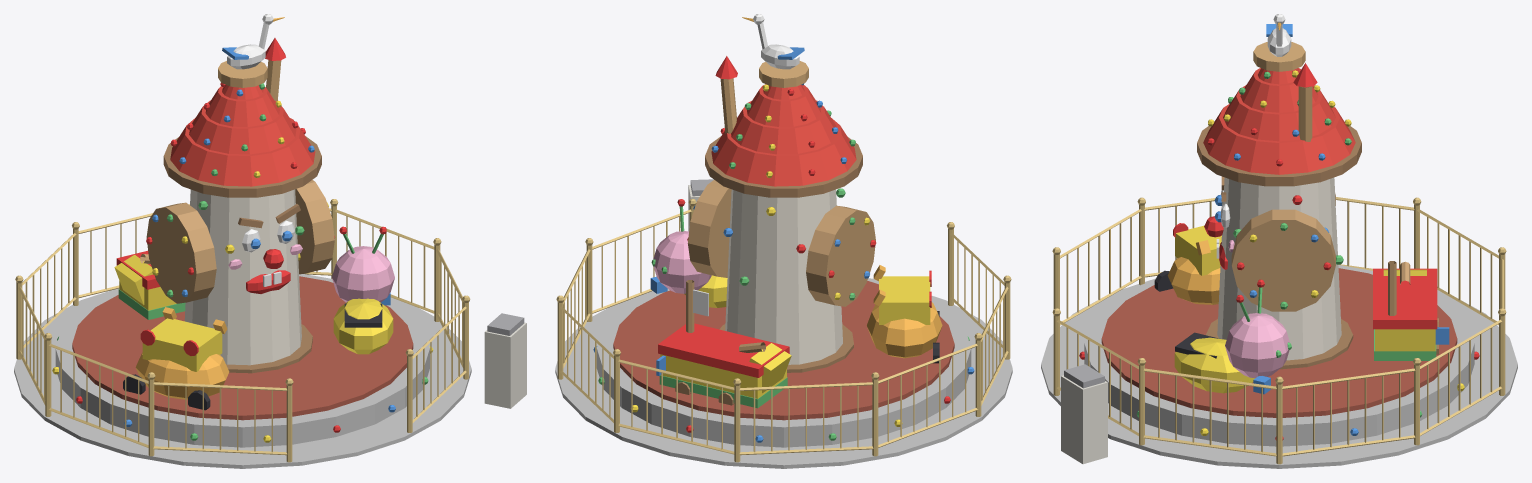
3 views of the same model, side by side, from view 1: azimuth 30°, elevation 25°; view 2: azimuth 150°, elevation 25°; view 3: azimuth 270°, elevation 25° (orthographic). The views are drawn at different scales.
Visible parts, largest first — view 1: base, rotor, lift1, lift2, lift0; view 2: base, rotor, lift0, lift1, lift2; view 3: base, rotor, lift2, lift0, lift1.
Boxes of the visible parts, x1,y1,x2,y2 form: base: [14, 14, 526, 468]; rotor: [72, 276, 413, 420]; lift1: [123, 307, 229, 410]; lift2: [332, 226, 394, 354]; lift0: [114, 250, 185, 319]; base: [555, 14, 1012, 468]; rotor: [613, 281, 954, 420]; lift0: [656, 280, 791, 408]; lift1: [866, 265, 942, 363]; lift2: [650, 199, 727, 307]; base: [1041, 14, 1517, 468]; rotor: [1101, 268, 1457, 417]; lift2: [1174, 279, 1291, 394]; lift0: [1373, 261, 1449, 360]; lift1: [1154, 223, 1221, 304].
Size of the model in its own units: 5.5 by 4.67 by 5.5.
